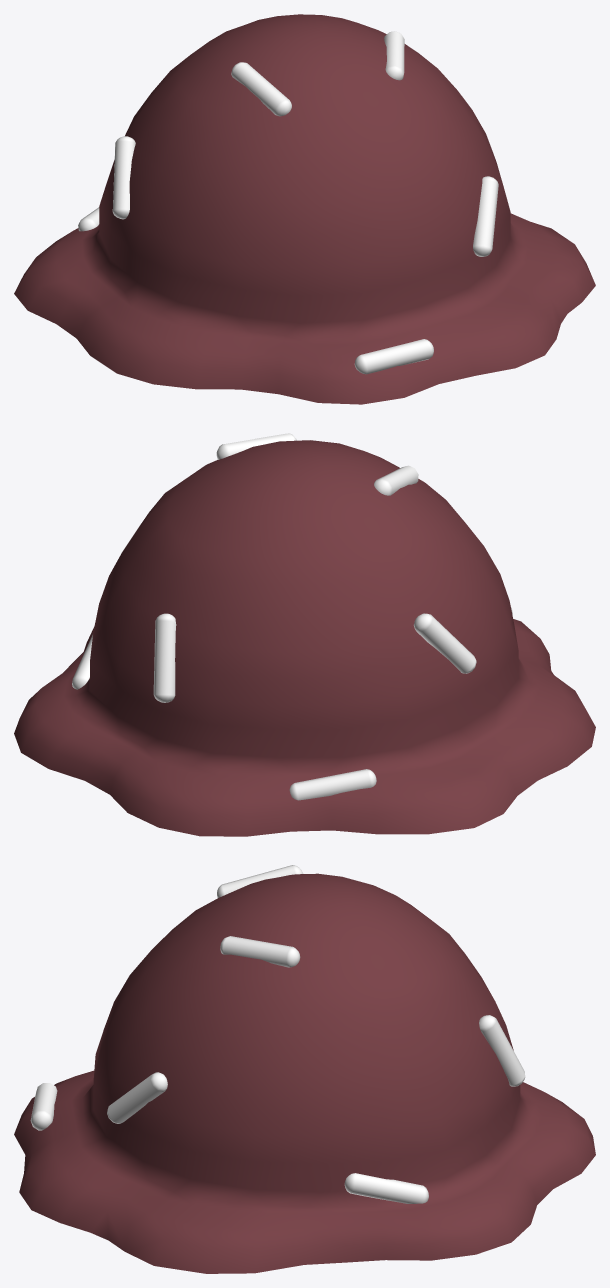
File: SM_Icecream_Ball_pink.fbx
3 renders of one model, top to bottom at view 1: azimuth 30°, elevation 25°; view 2: azimuth 150°, elevation 25°; view 3: azimuth 270°, elevation 25°, orthographic. The views are drawn at different scales.
Parts seen in each view (by area): view 1: SM_Icecream_Ball_pink; view 2: SM_Icecream_Ball_pink; view 3: SM_Icecream_Ball_pink.
Boxes of the visible parts, box(x1,y1,x2,y2) form: SM_Icecream_Ball_pink: box(14, 14, 595, 404); SM_Icecream_Ball_pink: box(14, 433, 595, 836); SM_Icecream_Ball_pink: box(14, 865, 595, 1273).
Size of the model in its own units: 420 by 217 by 435.
Materials: 1 (1 with a texture image).
